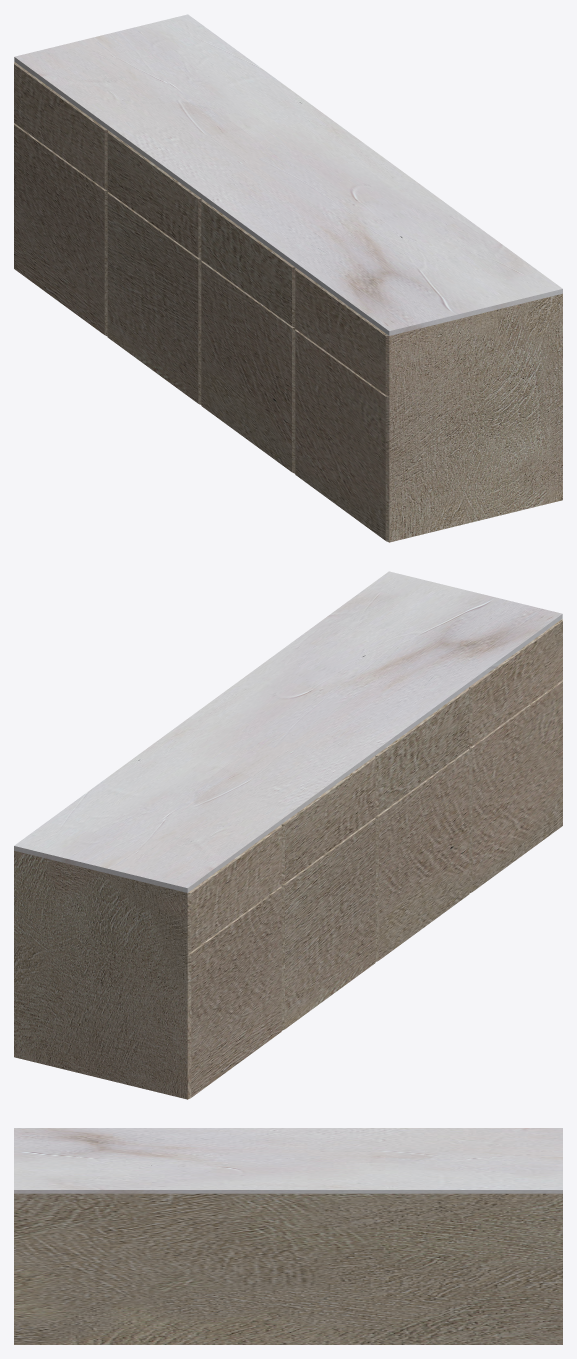
The model's file is alumine_köögikapp.fbx.
3 renders of one model, top to bottom at view 1: azimuth 30°, elevation 25°; view 2: azimuth 150°, elevation 25°; view 3: azimuth 270°, elevation 25°, orthographic. The views are drawn at different scales.
Visible parts, largest first — view 1: köögikapp; view 2: köögikapp; view 3: köögikapp.
Boxes of the visible parts, x1,y1,x2,y2 form: köögikapp: (14, 14, 562, 542); köögikapp: (14, 571, 562, 1099); köögikapp: (14, 1128, 562, 1344).
Bounding box in the file's own units: 785 × 903 × 2904.
